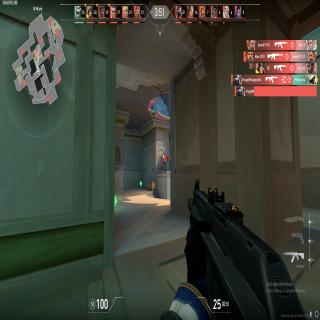ENEMY-BODY: (162, 151, 167, 171)
ENEMY-HEAD: (164, 152, 166, 156)
